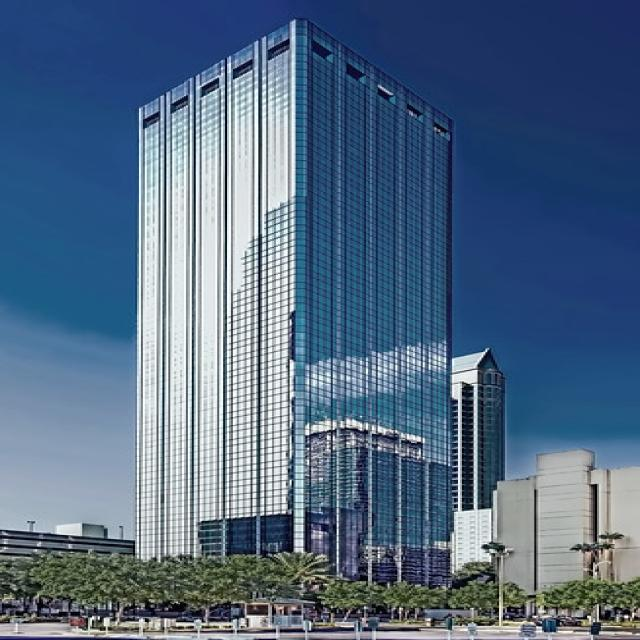building: (119, 13, 466, 618)
